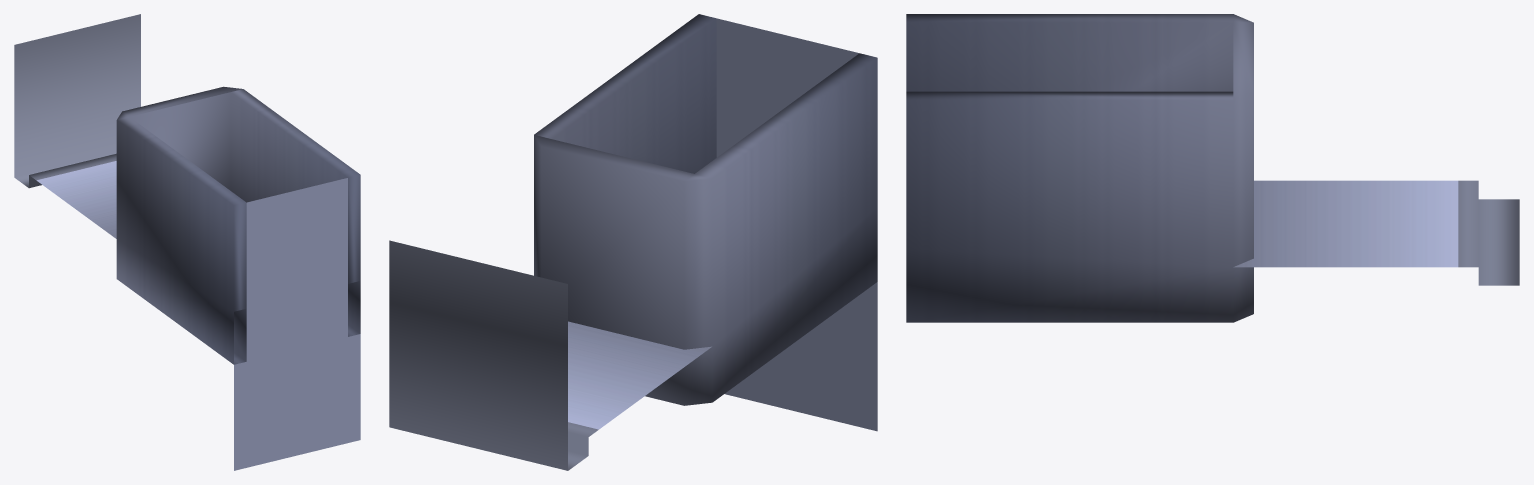
Rendered from structure-doorway.obj.
The picture shows the model from 3 angles, left to right: view 1: azimuth 30°, elevation 25°; view 2: azimuth 150°, elevation 25°; view 3: azimuth 270°, elevation 25°; orthographic projection. The views are drawn at different scales.
Parts seen in each view (by area): view 1: structure-doorway; view 2: structure-doorway; view 3: structure-doorway.
Boxes of the visible parts, x1,y1,x2,y2 form: structure-doorway: (14,14,360,470); structure-doorway: (389,14,877,470); structure-doorway: (906,14,1519,322).
Size of the model in its own units: 1 by 2 by 3.
